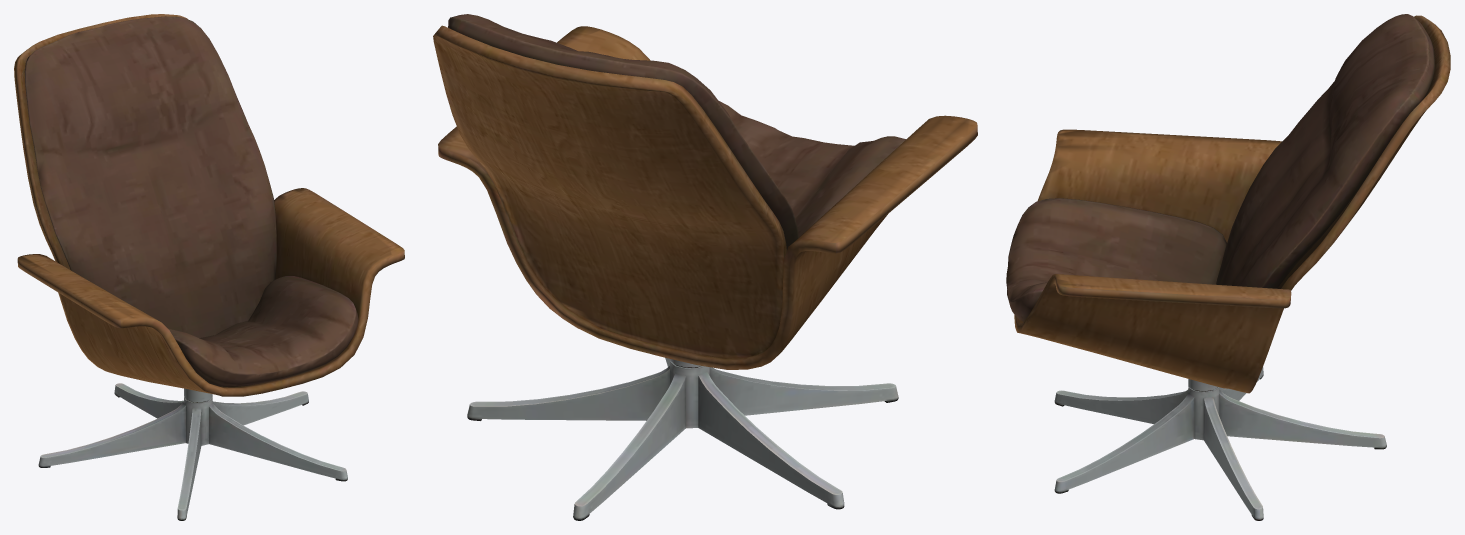
The model's file is prop-mid-century-lounge-chair.glb.
The picture shows the model from 3 angles, left to right: view 1: azimuth 30°, elevation 25°; view 2: azimuth 150°, elevation 25°; view 3: azimuth 270°, elevation 25°; orthographic projection. The views are drawn at different scales.
Visible parts, largest first — view 1: mid_century_lounge_chair; view 2: mid_century_lounge_chair; view 3: mid_century_lounge_chair.
Part boxes in pixels (bbox=[...]): mid_century_lounge_chair: bbox=[14, 14, 404, 520]; mid_century_lounge_chair: bbox=[433, 14, 977, 520]; mid_century_lounge_chair: bbox=[1006, 14, 1450, 520].
Bounding box in the file's own units: 1.01 × 1.17 × 1.19.
Materials: 1 (1 with a texture image).
